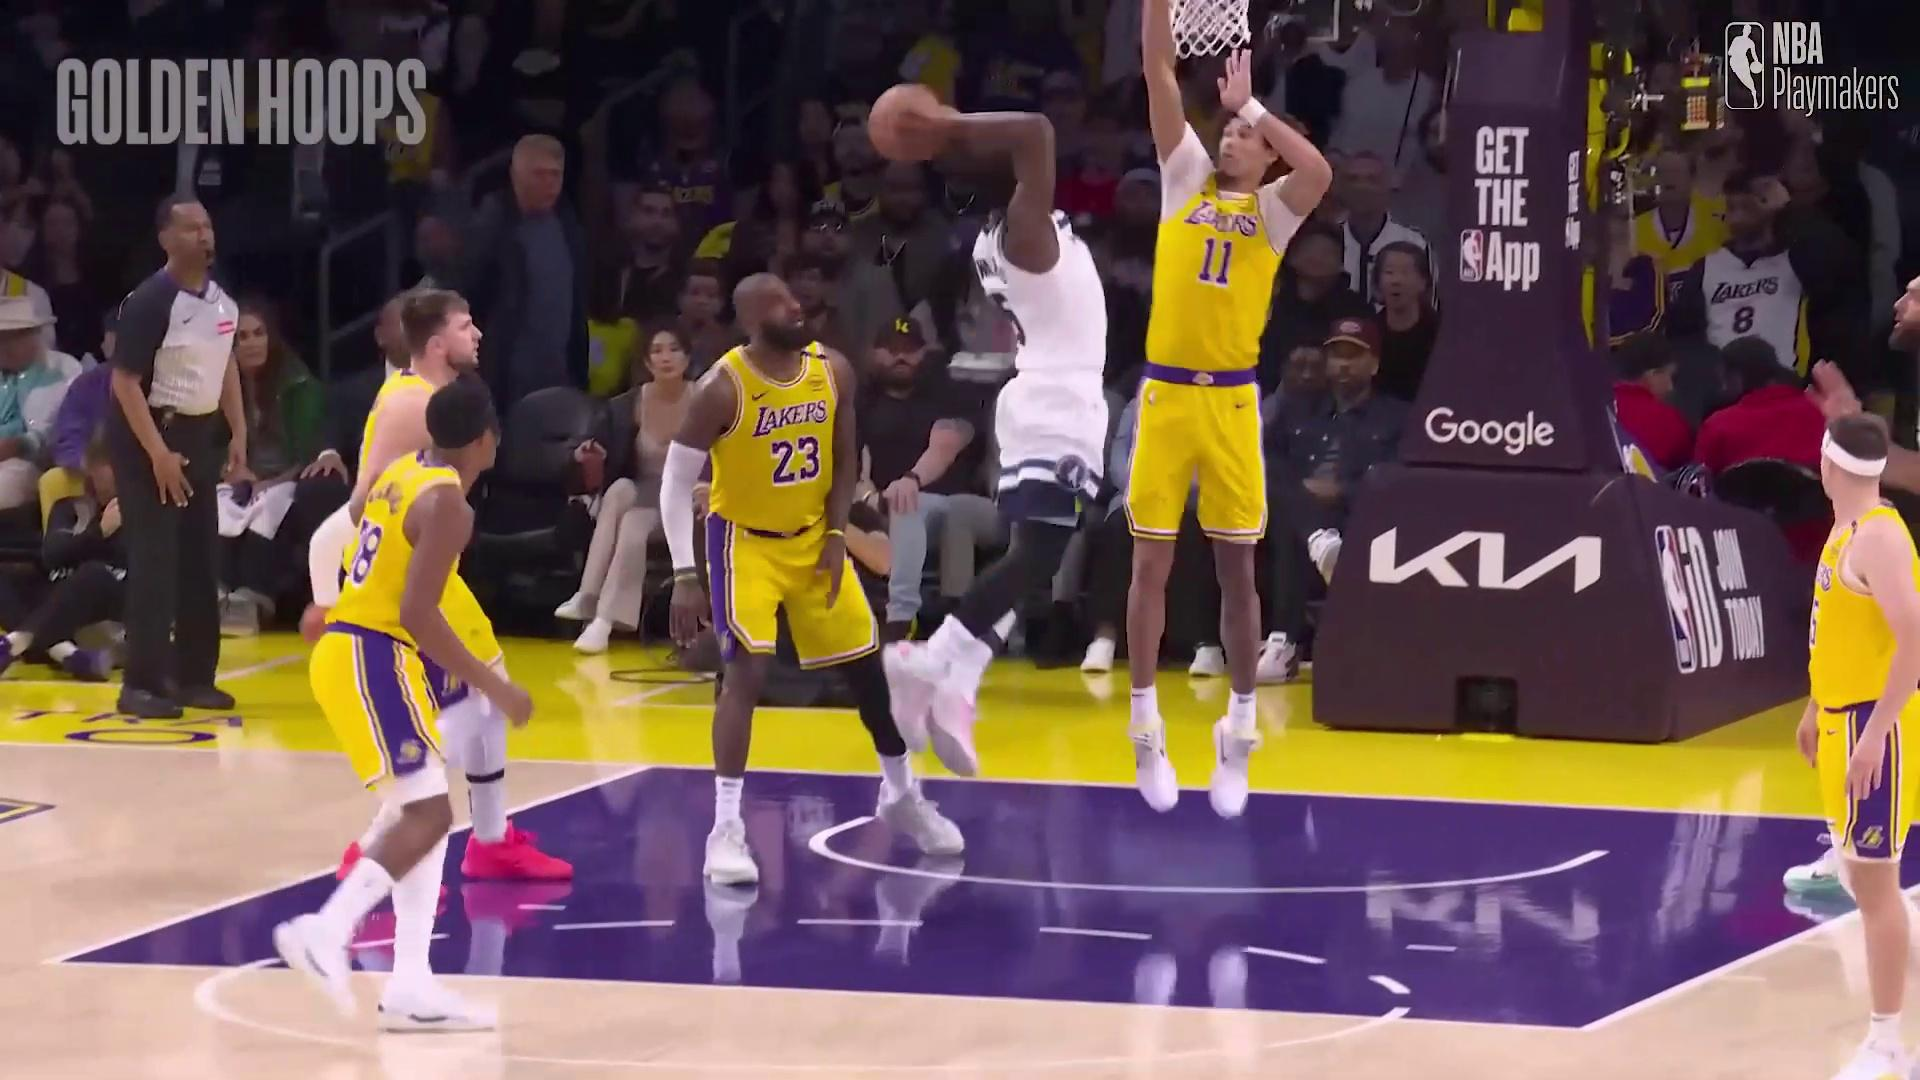ball: (863, 91, 944, 165)
